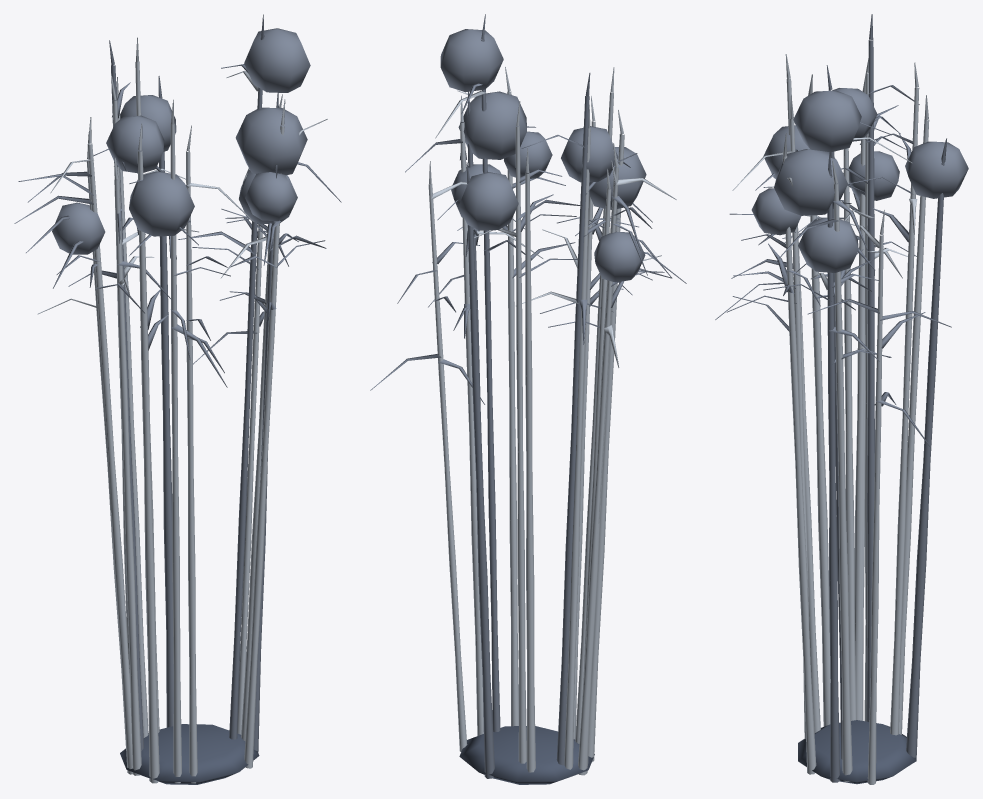
3 renders of one model, left to right at view 1: azimuth 30°, elevation 25°; view 2: azimuth 150°, elevation 25°; view 3: azimuth 270°, elevation 25°, orthographic. The views are drawn at different scales.
Parts seen in each view (by area): view 1: garden-bamboo-light, garden-bamboo-leaf, garden-bamboo-old, garden-bamboo-soil; view 2: garden-bamboo-light, garden-bamboo-leaf, garden-bamboo-old, garden-bamboo-soil; view 3: garden-bamboo-light, garden-bamboo-leaf, garden-bamboo-old, garden-bamboo-soil.
Part boxes in pixels (x1,y1,x2,y2): garden-bamboo-light: (37,37,327,783); garden-bamboo-leaf: (14,28,341,387); garden-bamboo-old: (109,14,278,752); garden-bamboo-soil: (120,724,259,784); garden-bamboo-light: (428,67,676,776); garden-bamboo-leaf: (370,29,686,404); garden-bamboo-old: (466,14,590,778); garden-bamboo-soil: (459,726,594,784); garden-bamboo-light: (732,54,929,784); garden-bamboo-leaf: (715,85,968,447); garden-bamboo-old: (826,14,946,782); garden-bamboo-soil: (798,720,915,784).
Bounding box in the file's own units: 1.05 × 2.7 × 0.85.
